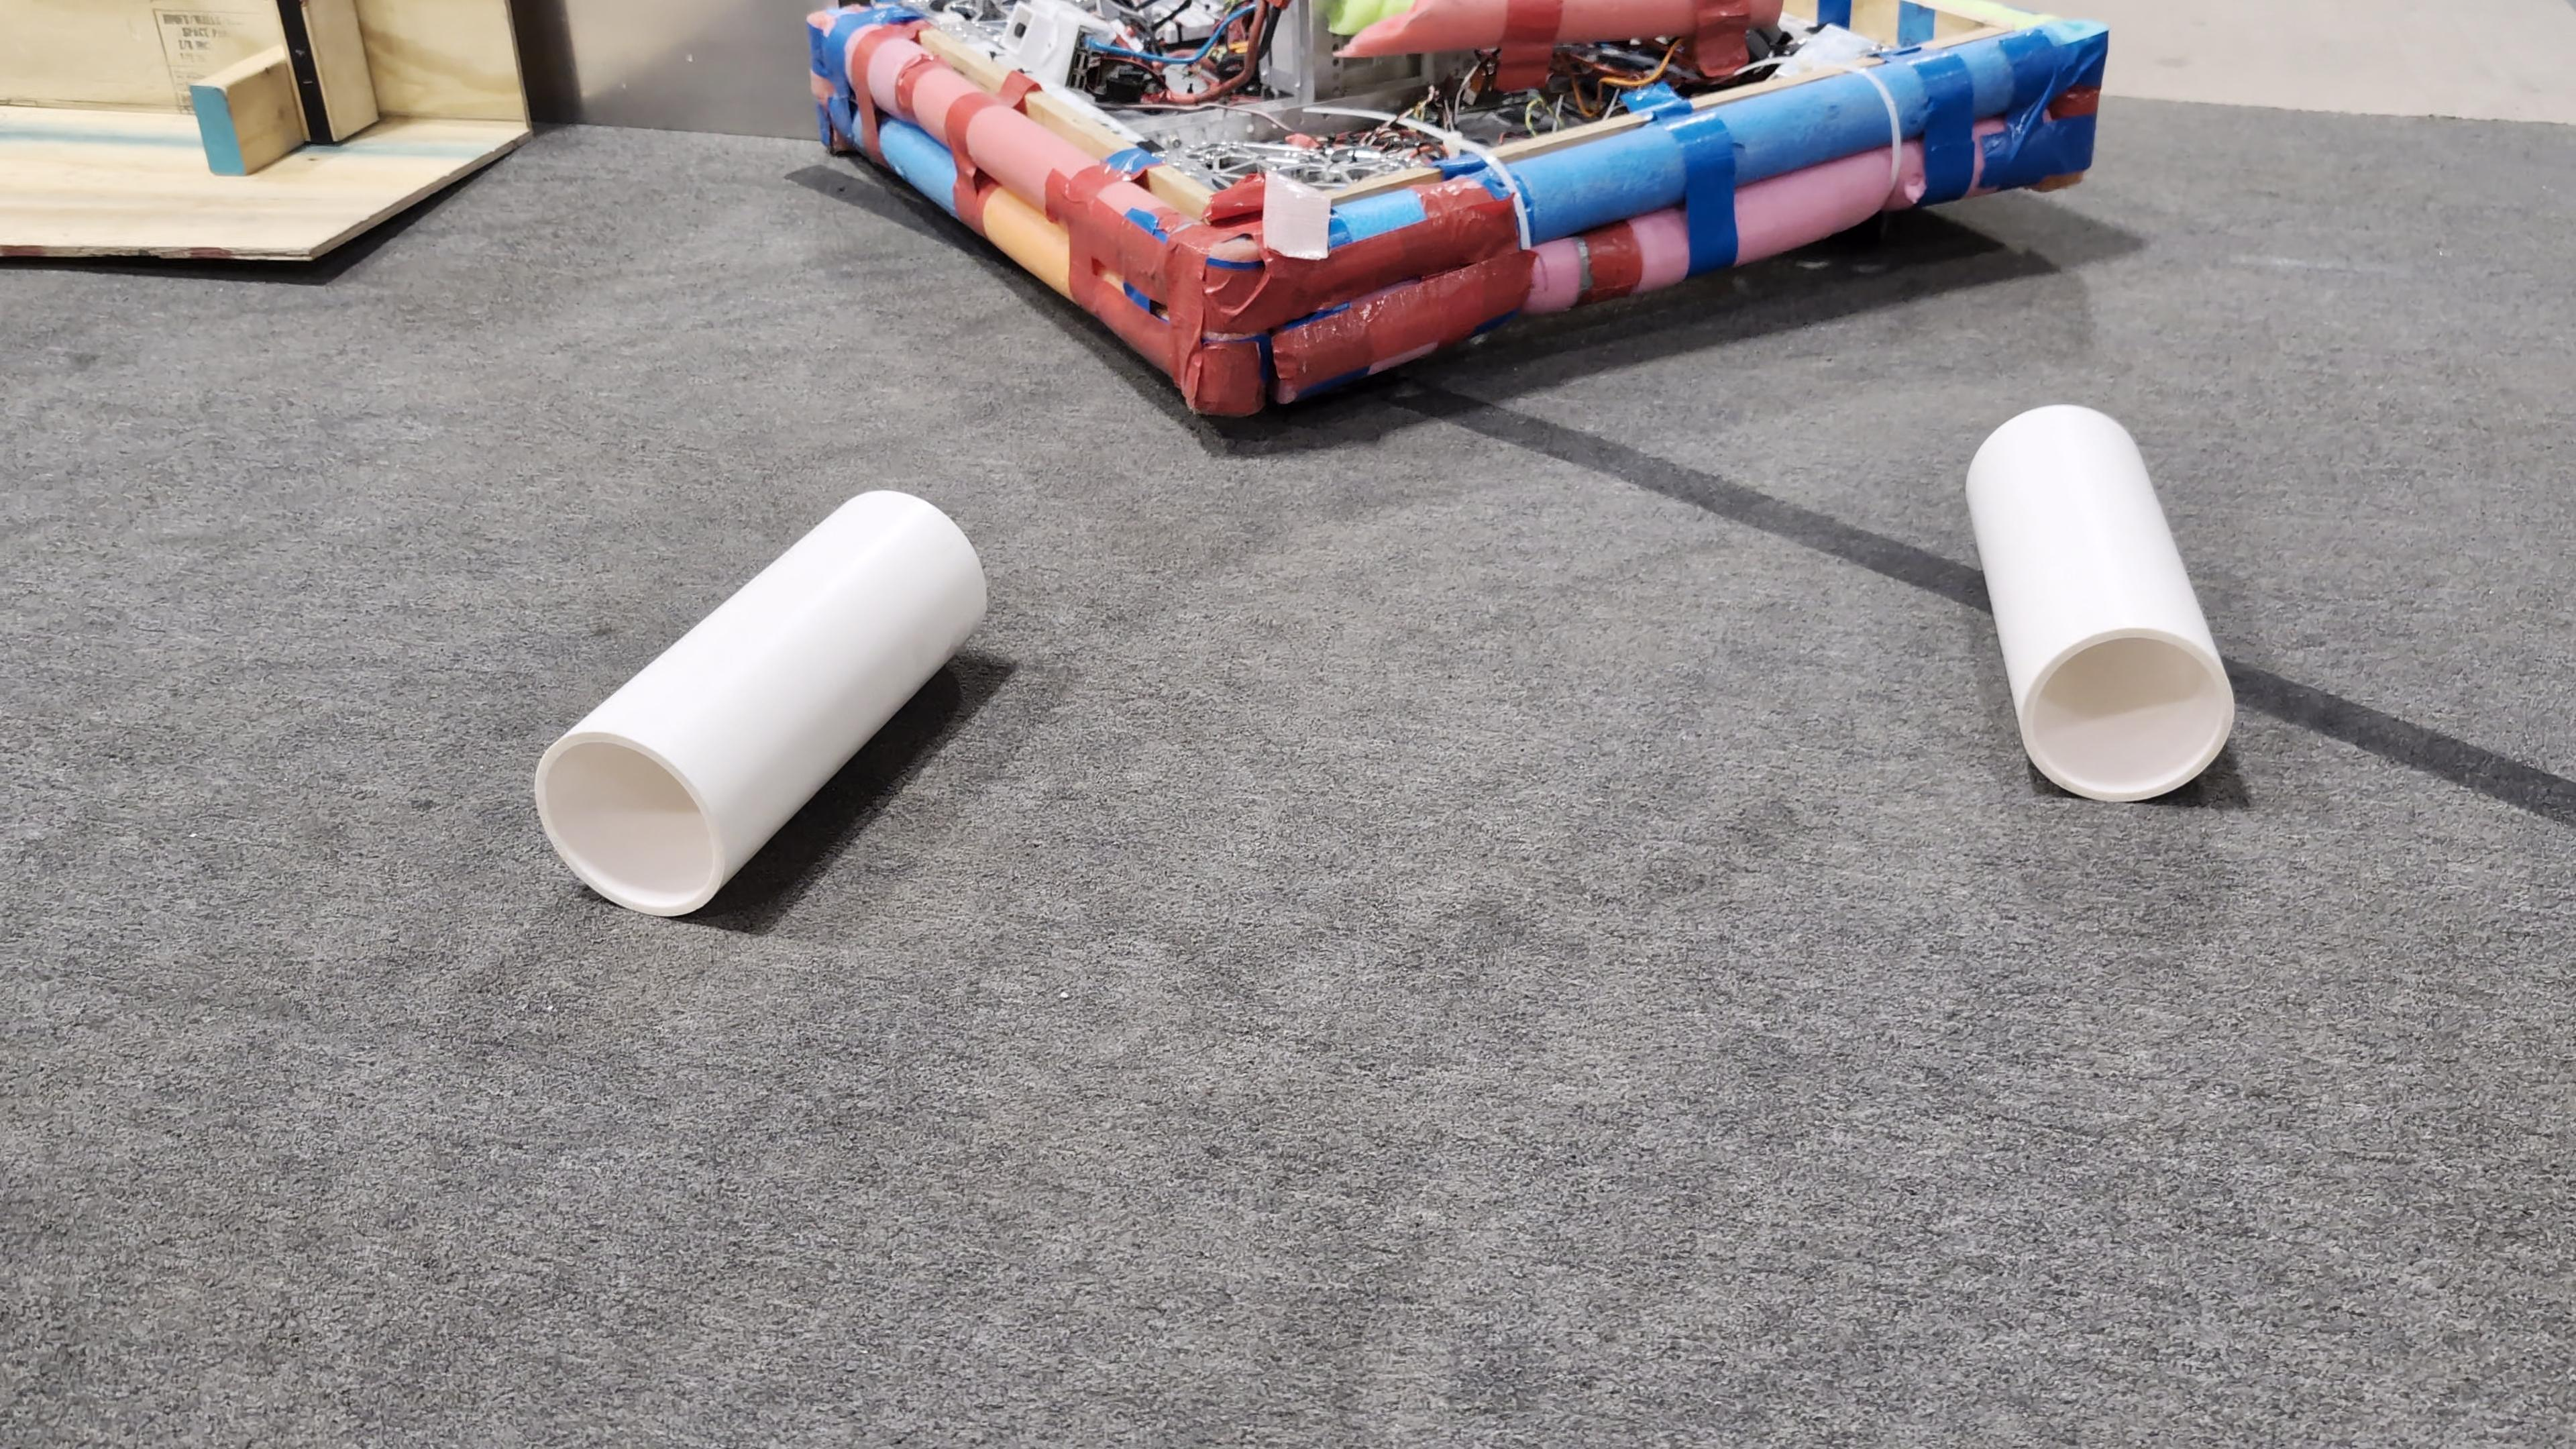coral: (534, 490, 985, 915), (1969, 403, 2236, 803)
